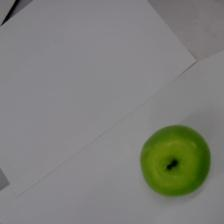green: (140, 124, 210, 196)
